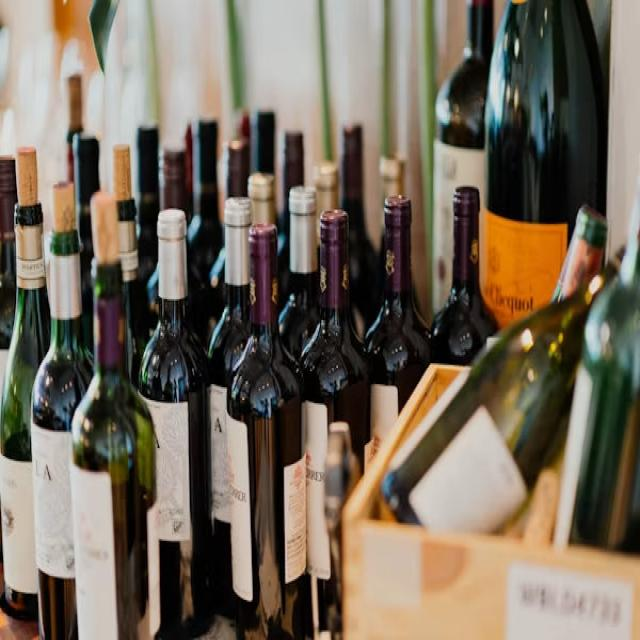Bottle: (381, 263, 617, 532), (480, 0, 606, 327), (71, 192, 159, 639), (227, 224, 306, 639), (139, 210, 213, 636), (555, 189, 639, 553), (301, 210, 370, 631), (31, 183, 92, 639), (0, 148, 50, 619), (431, 0, 493, 313), (364, 196, 431, 470), (208, 199, 251, 619), (431, 188, 495, 366), (114, 144, 150, 387), (187, 120, 223, 343), (342, 125, 379, 335), (326, 423, 360, 636), (280, 186, 318, 361), (73, 133, 99, 350), (552, 205, 607, 302), (0, 157, 18, 396), (279, 132, 303, 305), (377, 154, 405, 302), (137, 127, 159, 283), (314, 162, 339, 246), (67, 74, 83, 183), (159, 149, 187, 211), (222, 140, 249, 198), (251, 111, 275, 174), (248, 173, 276, 223), (185, 122, 194, 227)
